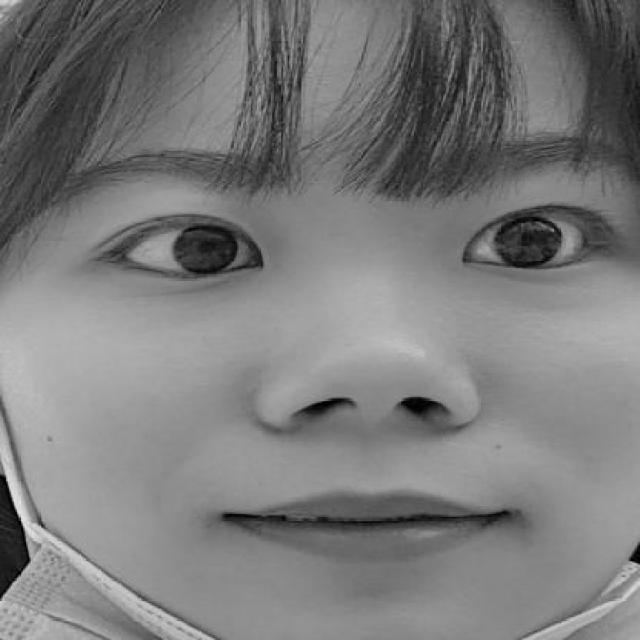happy: (55, 158, 634, 580)
